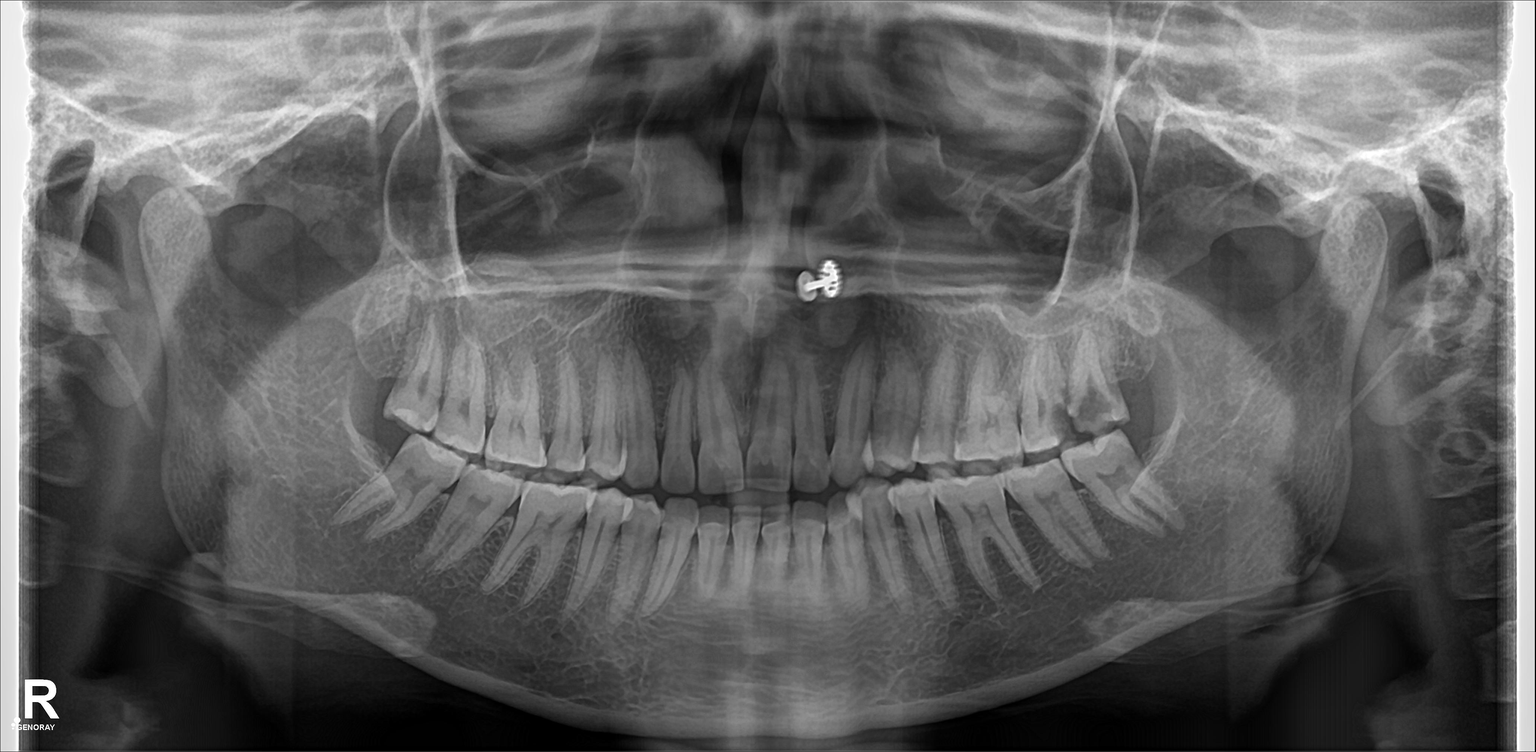Dental Caries: (1069, 385, 1111, 423), (1043, 398, 1070, 434)
Missing Tooth: (343, 292, 404, 408)
